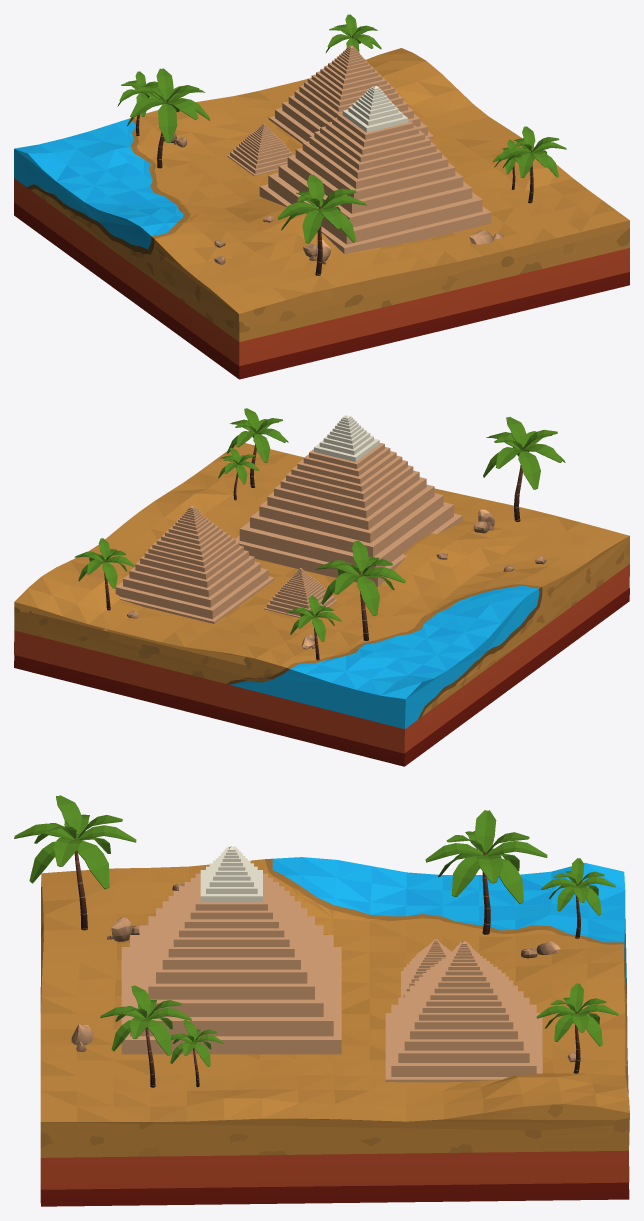
Rendered from pyramid full.fbx.
The picture shows the model from 3 angles, top to bottom: view 1: azimuth 30°, elevation 25°; view 2: azimuth 150°, elevation 25°; view 3: azimuth 270°, elevation 25°; orthographic projection. The views are drawn at different scales.
Parts seen in each view (by area): view 1: Cube.571, Cube.563, Cube.564, Cube.550, Cube.562, Cylinder.023, Cylinder.025, Cube.551, Cylinder.022, Cylinder.020, Cylinder.024; view 2: Cube.571, Cube.563, Cube.564, Cube.562, Cube.550, Cylinder.025, Cylinder.023, Cube.551, Cylinder.022, Cylinder.020, Cylinder.024, Cylinder.021; view 3: Cube.571, Cube.563, Cube.564, Cube.562, Cube.550, Cylinder.025, Cylinder.023, Cylinder.022, Cylinder.020, Cylinder.024, Cylinder.021, Cube.551.
Part boxes in pixels (<box>): Cube.571: <box>14,48,629,341</box>; Cube.563: <box>259,86,491,254</box>; Cube.564: <box>14,178,629,365</box>; Cube.550: <box>14,202,629,379</box>; Cube.562: <box>268,45,433,143</box>; Cylinder.023: <box>277,174,366,275</box>; Cylinder.025: <box>127,68,210,168</box>; Cube.551: <box>227,123,293,176</box>; Cylinder.022: <box>500,126,566,203</box>; Cylinder.020: <box>326,14,381,52</box>; Cylinder.024: <box>117,71,158,136</box>; Cube.571: <box>14,443,629,729</box>; Cube.563: <box>235,415,462,586</box>; Cube.564: <box>14,564,629,753</box>; Cube.562: <box>115,506,274,623</box>; Cube.550: <box>14,588,629,766</box>; Cylinder.025: <box>315,540,405,640</box>; Cylinder.023: <box>483,417,565,521</box>; Cube.551: <box>264,568,337,620</box>; Cylinder.022: <box>227,408,288,487</box>; Cylinder.020: <box>74,538,134,610</box>; Cylinder.024: <box>287,595,341,660</box>; Cylinder.021: <box>218,447,259,500</box>; Cube.571: <box>40,857,629,1157</box>; Cube.563: <box>121,846,341,1054</box>; Cube.564: <box>40,1150,629,1189</box>; Cube.562: <box>385,941,542,1082</box>; Cube.550: <box>40,1182,629,1206</box>; Cylinder.025: <box>425,810,547,934</box>; Cylinder.023: <box>14,795,136,930</box>; Cylinder.022: <box>100,985,191,1087</box>; Cylinder.020: <box>536,983,618,1073</box>; Cylinder.024: <box>541,858,615,938</box>; Cylinder.021: <box>170,1020,223,1087</box>; Cube.551: <box>401,939,450,997</box>.
Bounding box in the file's own units: 160 × 73.76 × 168.
1 material, 1 textured.
